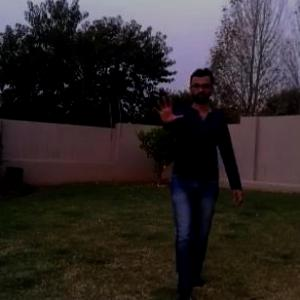follow_hand: (150, 92, 186, 128)
